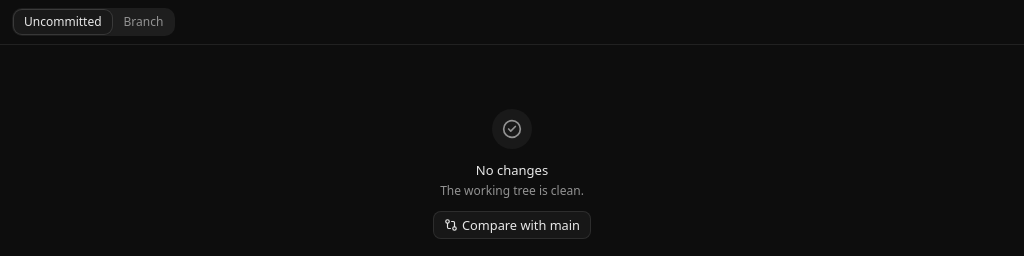
Test case: ChangesView › a clean tree offers to compare with the default branch
The width and height of the screenshot is (1024, 256).
Click the button "Compare with main".
click(512, 225)  # box [433,211,591,239]
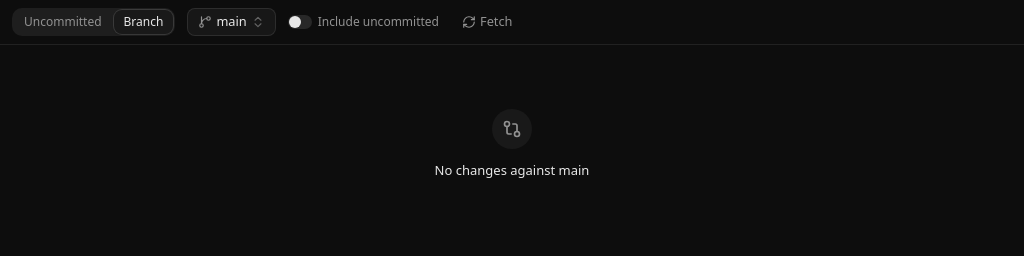
Expected: the text "No changes against main" is shown, [435,161,589,179]
